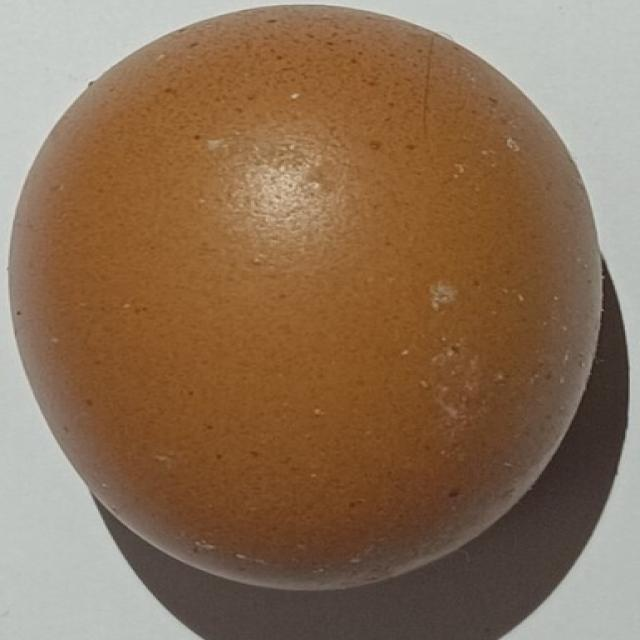unfresh: (3, 2, 606, 584)
